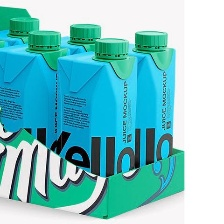carton: (56, 35, 139, 186), (0, 28, 69, 154), (123, 27, 181, 171), (55, 17, 114, 61), (0, 14, 55, 50)
